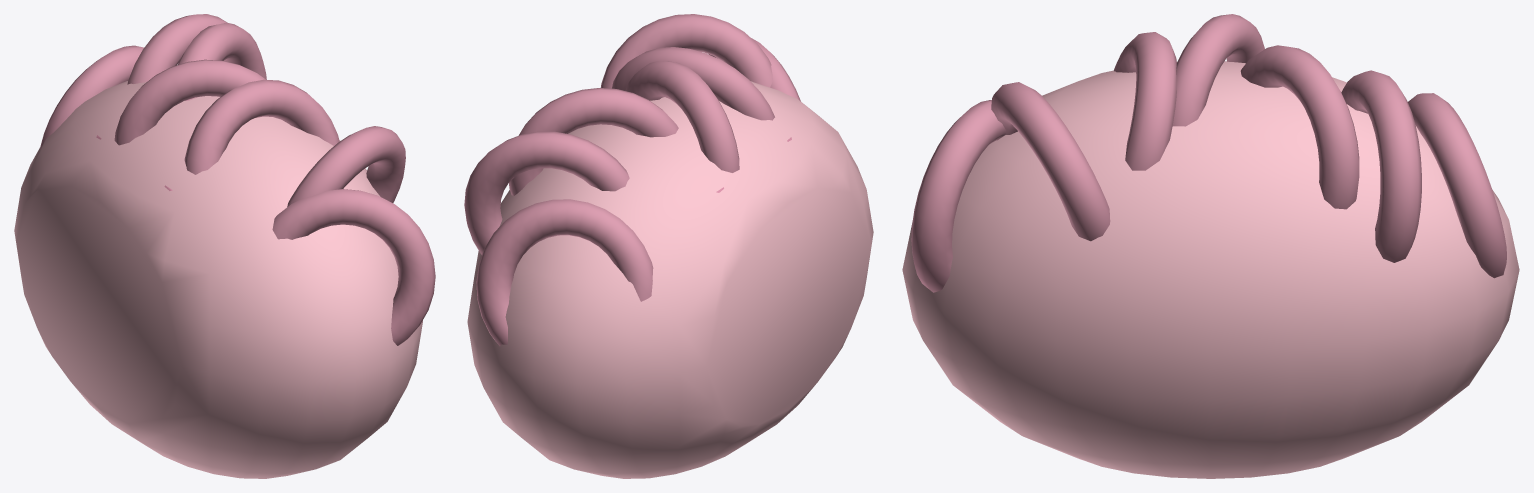
File: chunk15.glb
The picture shows the model from 3 angles, left to right: view 1: azimuth 30°, elevation 25°; view 2: azimuth 150°, elevation 25°; view 3: azimuth 270°, elevation 25°; orthographic projection. The views are drawn at different scales.
Parts seen in each view (by area): view 1: brain, fold; view 2: brain, fold; view 3: brain, fold.
Boxes of the visible parts, left/top/right/bottom form: brain: left=14, top=81, right=422, bottom=478; fold: left=40, top=14, right=435, bottom=345; brain: left=467, top=81, right=873, bottom=478; fold: left=464, top=14, right=800, bottom=346; brain: left=902, top=61, right=1519, bottom=478; fold: left=911, top=14, right=1506, bottom=292.
Size of the model in its own units: 0.9145 by 1.26 by 1.61.
